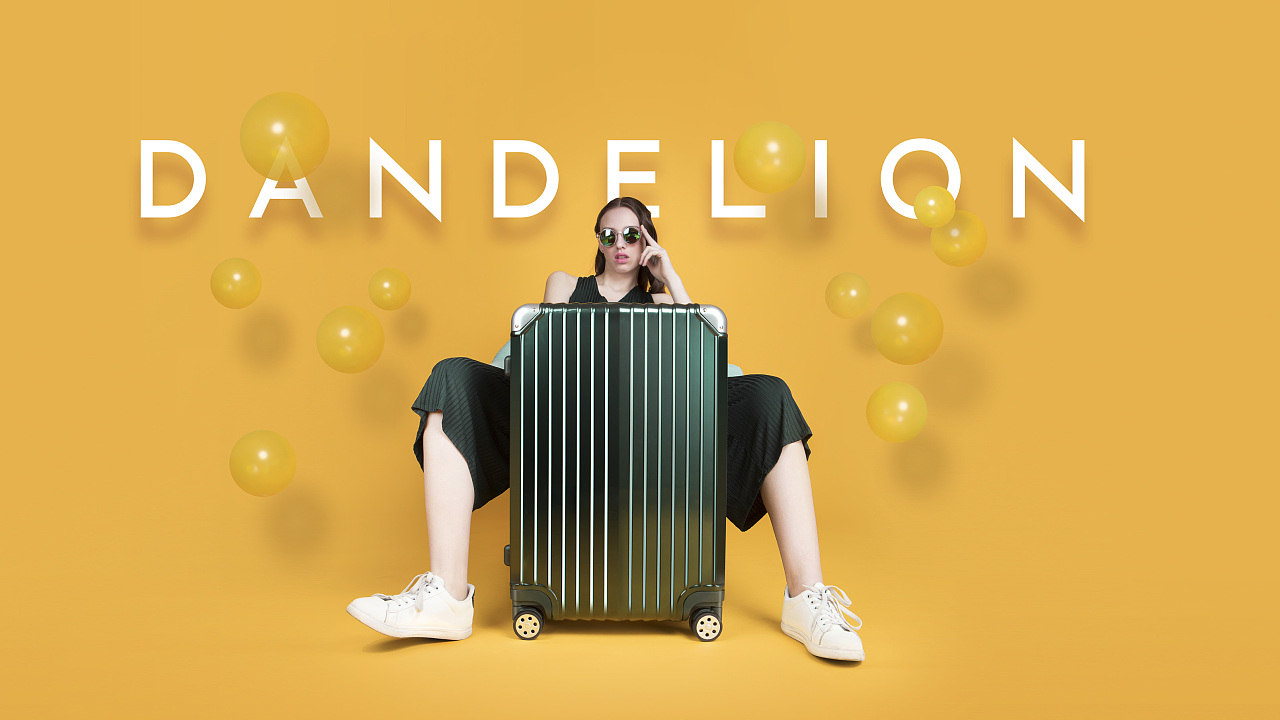box: (508, 309, 729, 626)
wheel: (692, 609, 723, 641), (513, 608, 543, 640)
